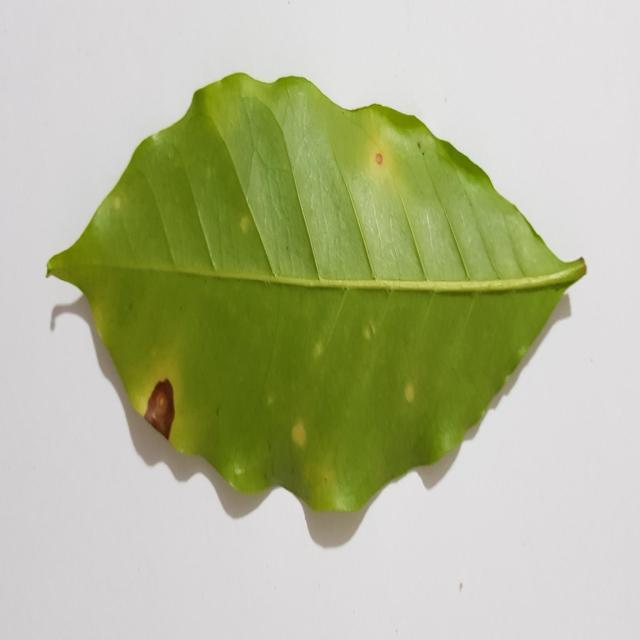Enfermedad-Mancha-de-hierro: (46, 72, 588, 514)
